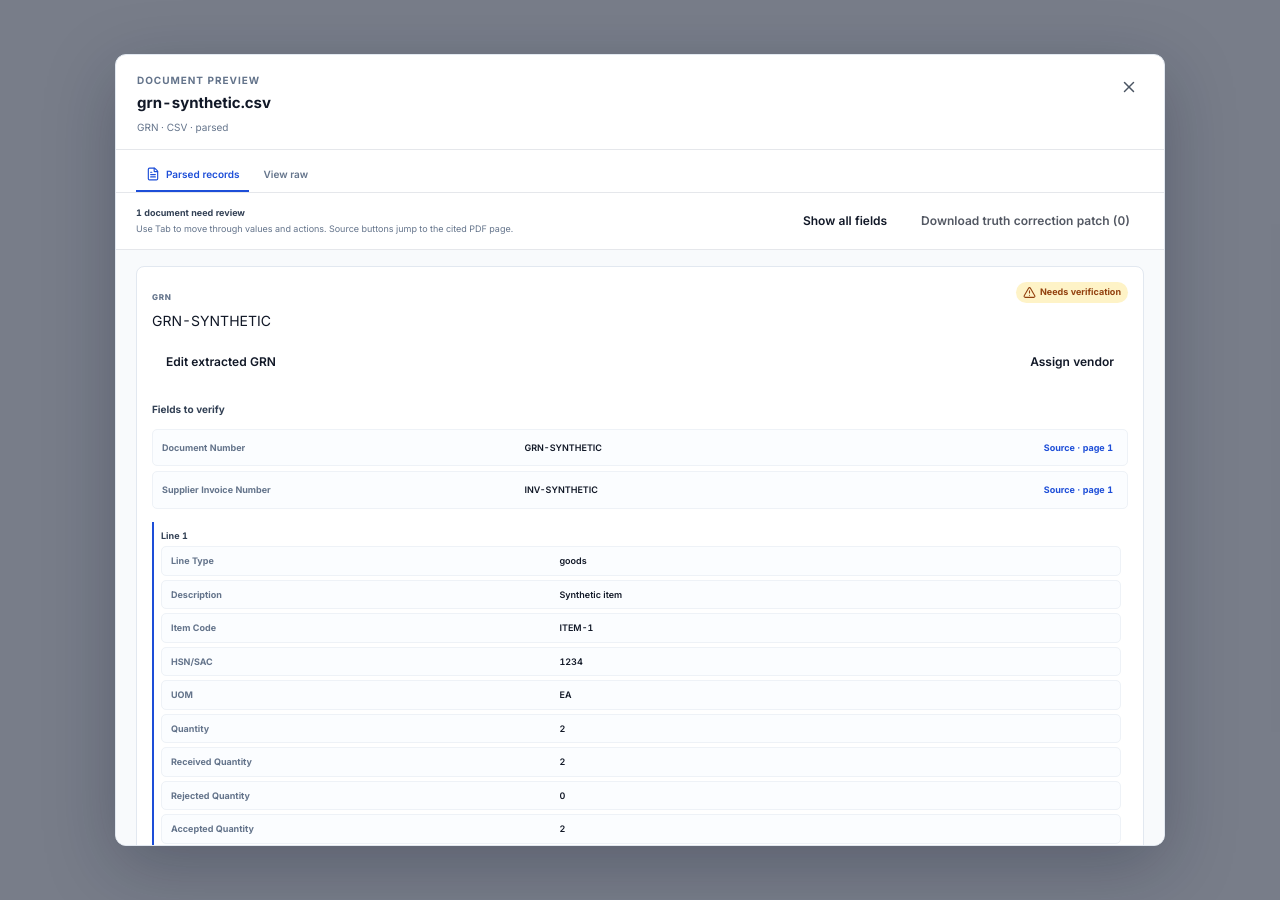
Scenario: AC-7 PO/GRN verification editor › saves a verified grn correction with its typed fields and evidence
Expected: the heading "GRN-SYNTHETIC" is shown, [152, 310, 271, 330]
Expected: the heading "Fields to verify" is shown, [152, 402, 225, 414]
Click the button "Edit extracted GRN": coordinates (221, 362) [152, 344, 290, 380]
(page scrolled)
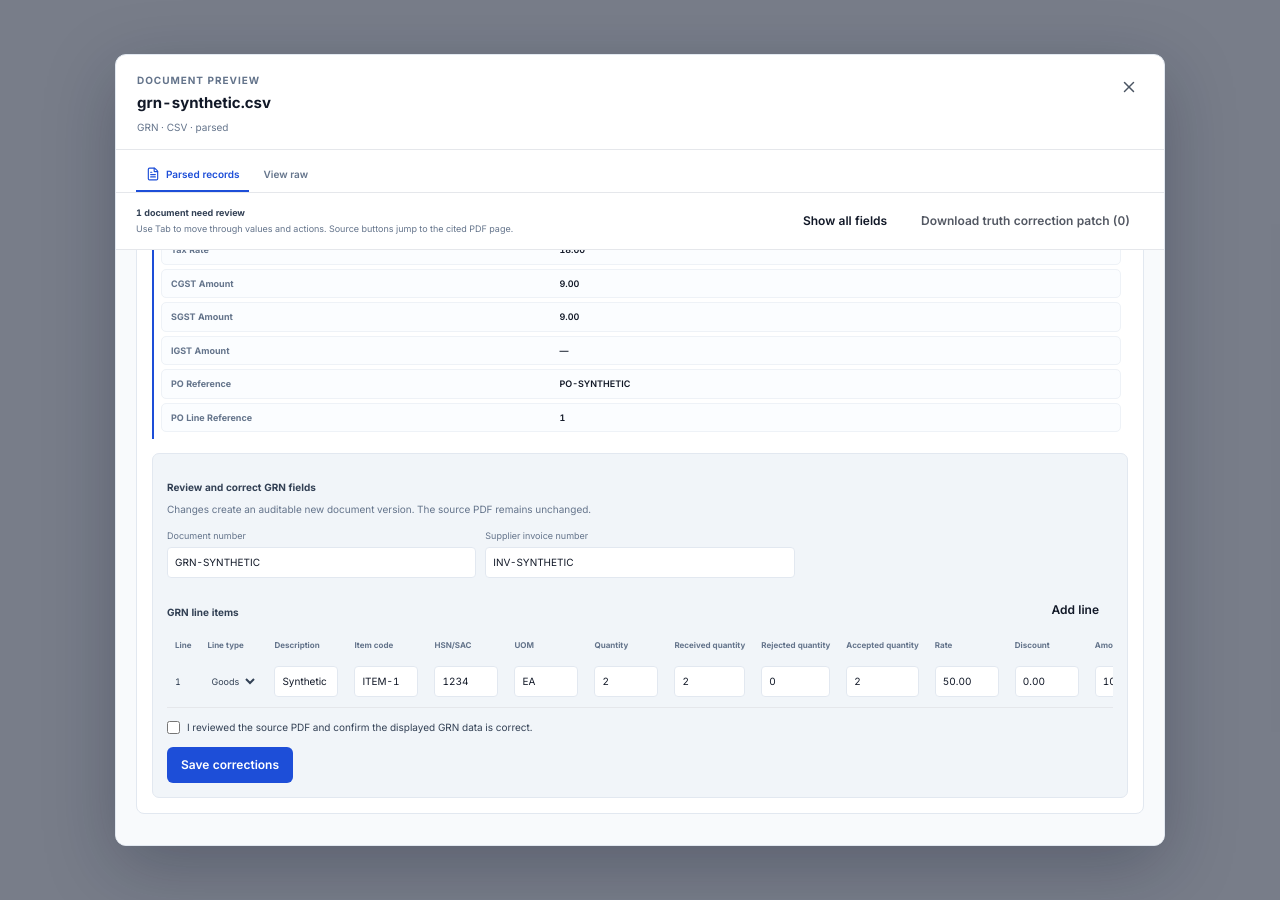
Replace the text in the field labelled "Supplier invoice number" with "INV-SYNTHETIC-2": coordinates (640, 562) [485, 546, 795, 578]
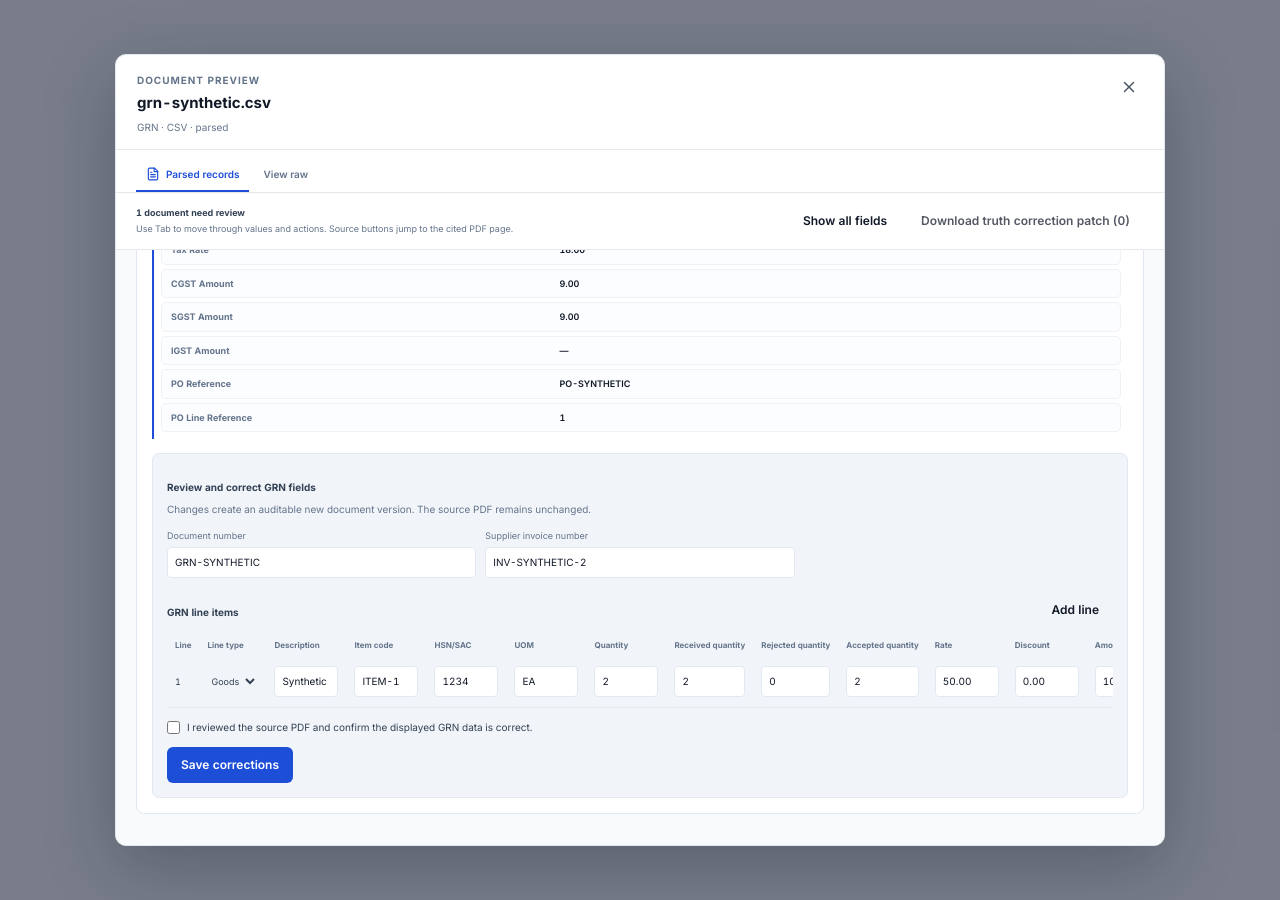
Click the checkbox: coordinates (174, 727) [167, 720, 180, 734]
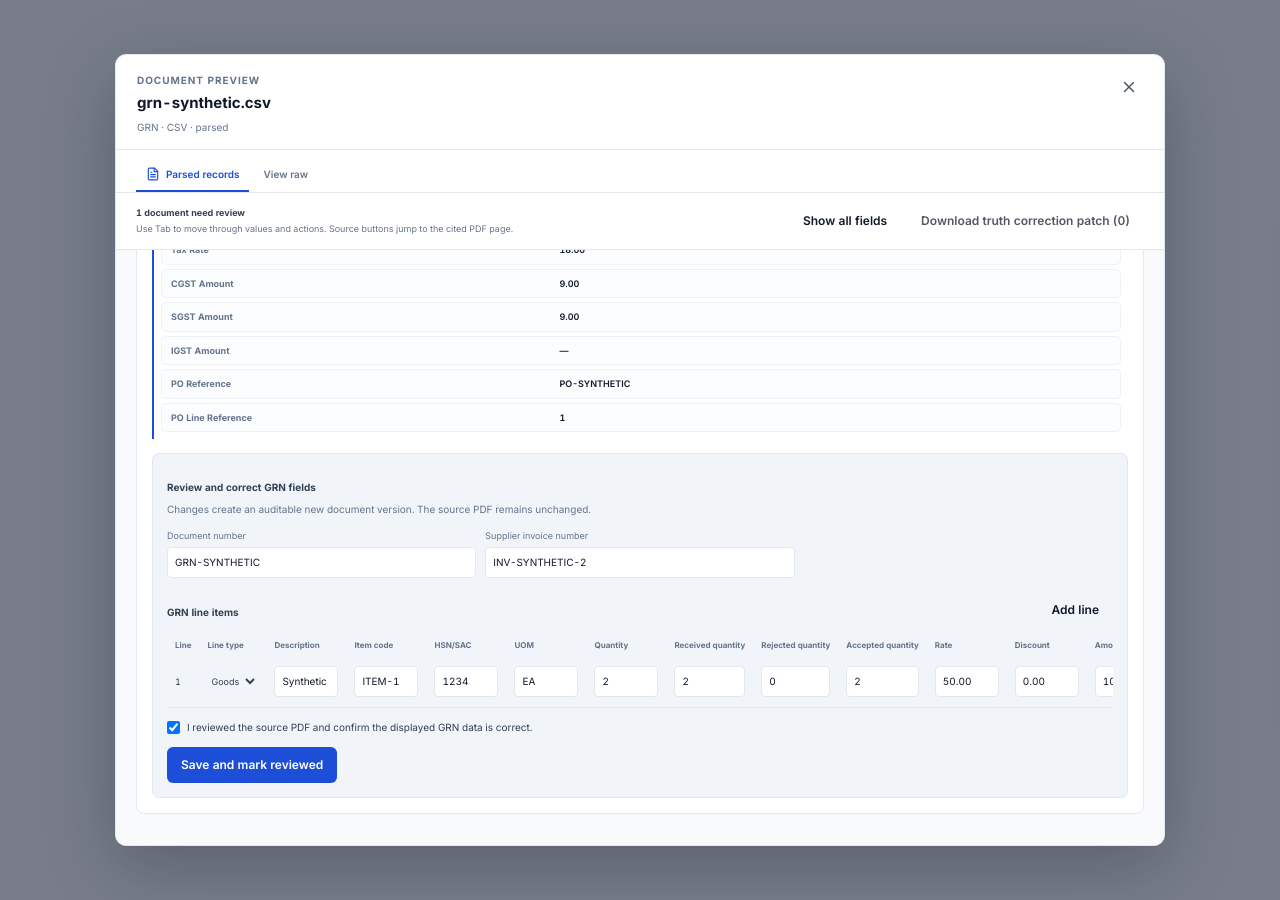
Click the button "Save and mark reviewed": coordinates (252, 764) [167, 746, 337, 782]
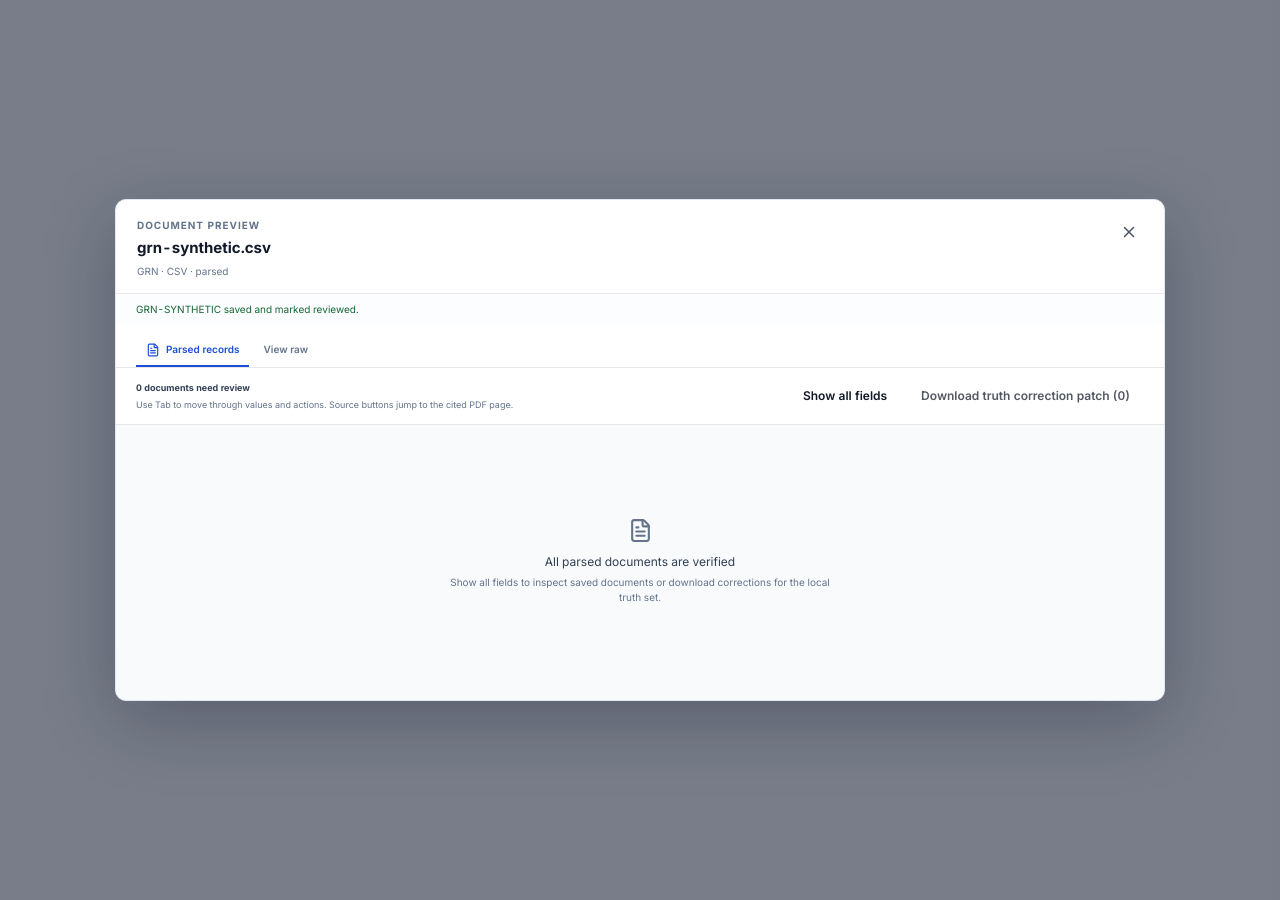
Result: the text "GRN-SYNTHETIC saved and marked reviewed." is shown at [116, 294, 1164, 325]
